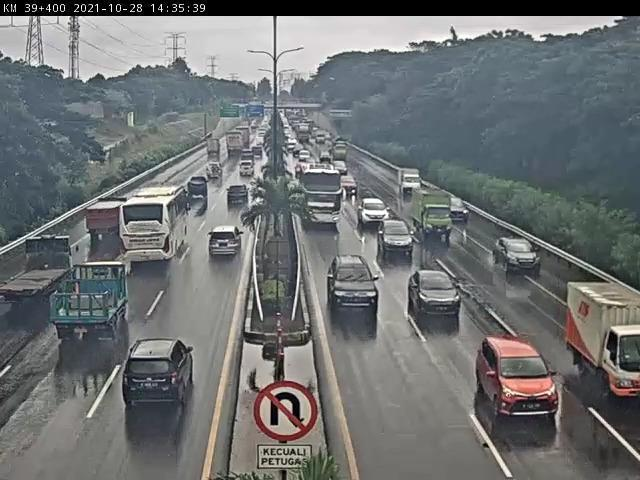bus: (120, 187, 195, 268), (295, 162, 343, 225)
car: (479, 336, 560, 423), (123, 339, 195, 412), (326, 254, 380, 309), (409, 272, 461, 315), (495, 235, 540, 276), (380, 221, 415, 258), (208, 227, 243, 259), (359, 200, 389, 227), (399, 170, 423, 197), (227, 187, 252, 208), (449, 200, 467, 223), (205, 164, 222, 182), (341, 177, 358, 194), (239, 162, 256, 178), (333, 160, 346, 172), (251, 148, 264, 159), (241, 152, 254, 163), (300, 150, 311, 160)
truck: (565, 280, 640, 400), (54, 263, 129, 343), (1, 237, 73, 297), (413, 191, 453, 240), (86, 198, 130, 242), (225, 132, 247, 156), (189, 178, 210, 201), (333, 139, 350, 160), (206, 141, 220, 158)
